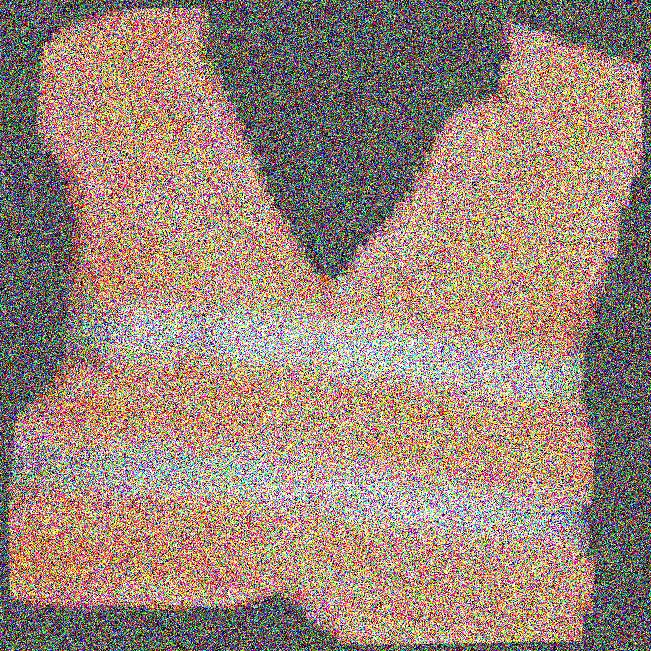Colete: (9, 0, 650, 650)
